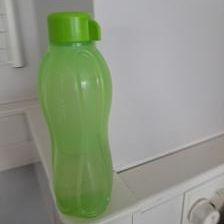bottle: (36, 8, 113, 220)
